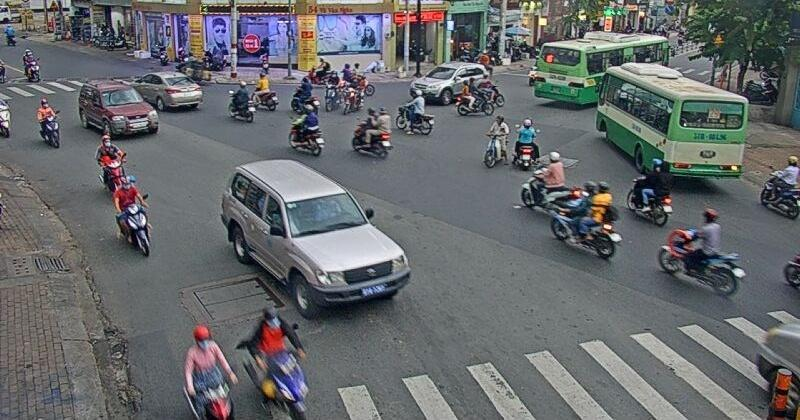xe buyt: (595, 61, 747, 174), (532, 30, 667, 104)
xe hoi: (221, 159, 408, 320), (78, 80, 159, 135), (409, 62, 487, 105), (133, 71, 203, 110)
xe may: (657, 209, 747, 296), (114, 175, 150, 257), (350, 107, 391, 159), (287, 104, 325, 156), (395, 89, 434, 136), (95, 135, 126, 185), (512, 116, 540, 170), (483, 114, 509, 168), (36, 98, 61, 148), (227, 80, 254, 122), (251, 72, 278, 112)
